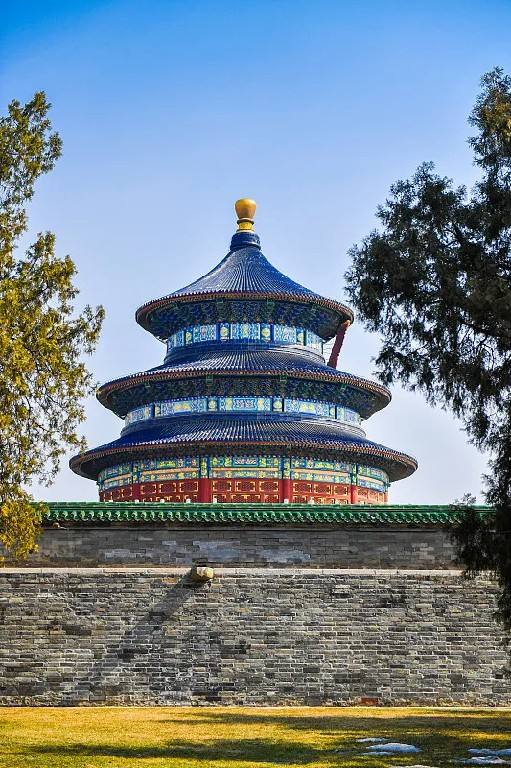Heaven: (69, 197, 416, 502)
